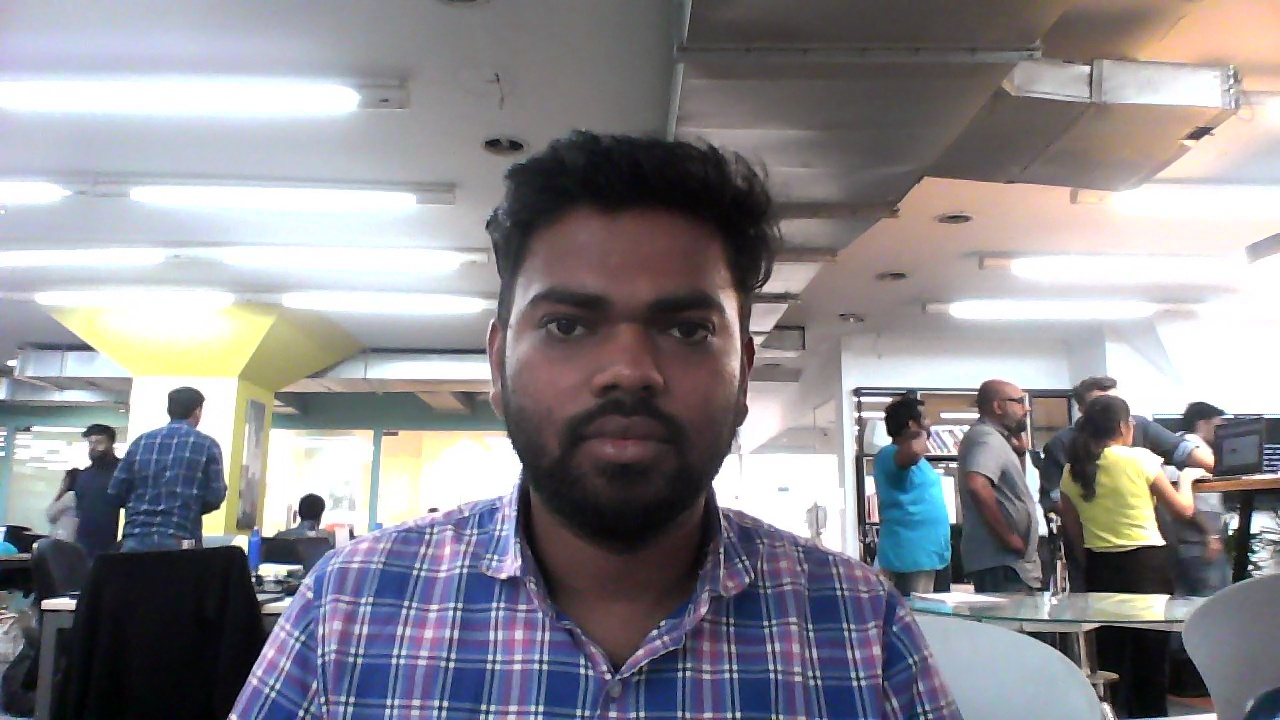open: (483, 129, 762, 525)
